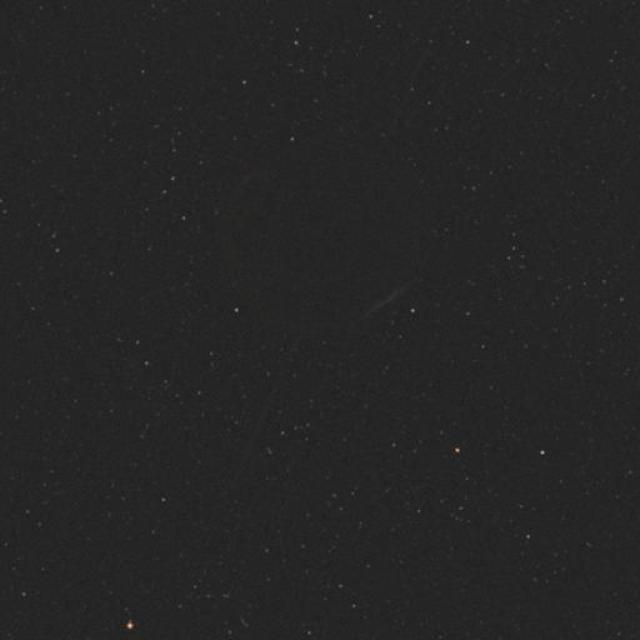double_start: (194, 102, 465, 346)
